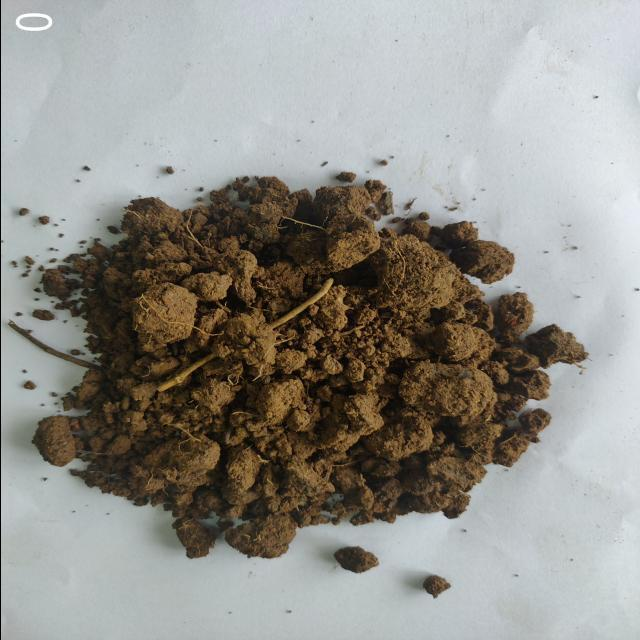soil: (128, 255, 480, 471)
